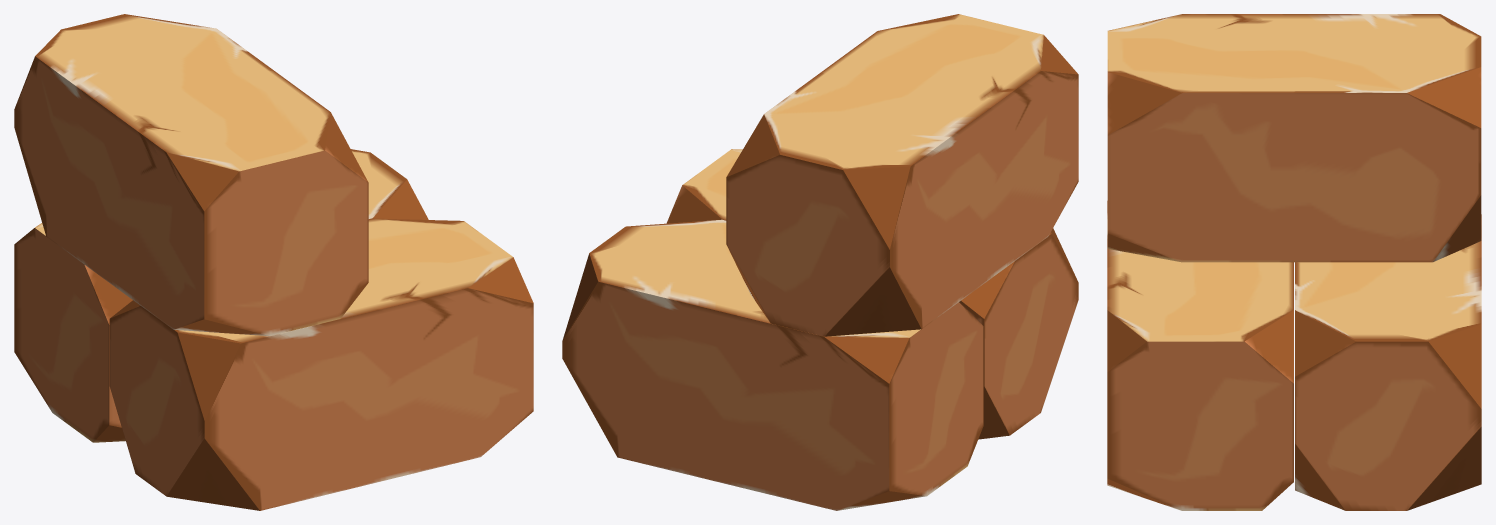
Rendered from Rock_Group_001.fbx.
The picture shows the model from 3 angles, left to right: view 1: azimuth 30°, elevation 25°; view 2: azimuth 150°, elevation 25°; view 3: azimuth 270°, elevation 25°; orthographic projection.
Parts seen in each view (by area): view 1: Cube.001, Cube, Cube.002; view 2: Cube.001, Cube.002, Cube; view 3: Cube.001, Cube, Cube.002.
Boxes of the visible parts, <box> form: Cube.001: <box>14,14,368,335</box>; Cube: <box>109,218,533,510</box>; Cube.002: <box>14,149,428,442</box>; Cube.001: <box>726,14,1078,336</box>; Cube.002: <box>562,219,983,510</box>; Cube: <box>666,149,1078,439</box>; Cube.001: <box>1107,14,1481,262</box>; Cube: <box>1107,201,1293,510</box>; Cube.002: <box>1295,214,1481,510</box>.
Size of the model in its own units: 2 by 2 by 2.
Materials: 1 (1 with a texture image).
